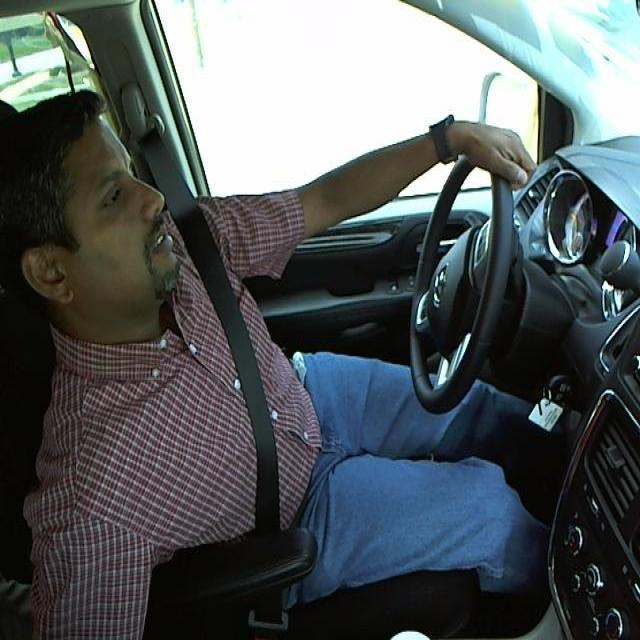seatbelt: (183, 253, 288, 518)
